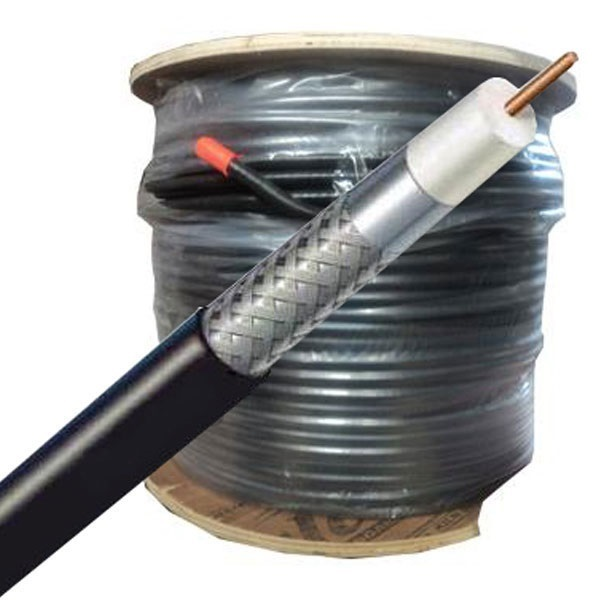Nonrec_Tangler: (93, 1, 581, 542)
